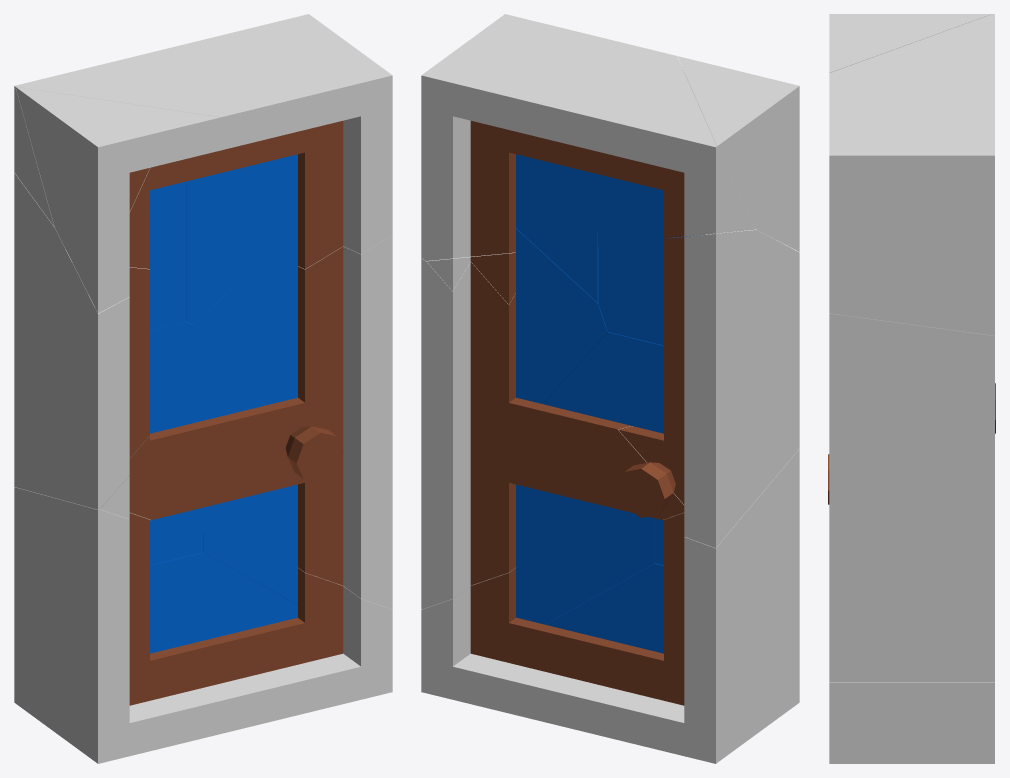
File: Door 4x2x1 Fractured.fbx
3 views of the same model, side by side, from view 1: azimuth 30°, elevation 25°; view 2: azimuth 150°, elevation 25°; view 3: azimuth 270°, elevation 25° (orthographic).
Visible parts, largest first — view 1: Door 4x2x1_cell, Door 4x2x1_cell.001, Door 4x2x1_cell.003, Door 4x2x1_cell.002, Door 4x2x1_cell.004, Glass.001_cell.003, Glass.001_cell, Glass_cell.001, Glass.001_cell.001, Glass_cell, Glass.001_cell.002, Glass_cell.002; view 2: Door 4x2x1_cell, Door 4x2x1_cell.003, Door 4x2x1_cell.001, Door 4x2x1_cell.002, Glass_cell, Door 4x2x1_cell.004, Glass.001_cell.002, Glass.001_cell, Glass.001_cell.003, Glass.001_cell.001, Glass_cell.001, Door 4x2x1.002 (+1 smaller); view 3: Door 4x2x1_cell.001, Door 4x2x1_cell.003, Door 4x2x1_cell, Door 4x2x1_cell.004.
Boxes of the visible parts, x1=… form: Door 4x2x1_cell: x1=14, y1=487, x2=392, y2=763; Door 4x2x1_cell.001: x1=100, y1=235, x2=392, y2=609; Door 4x2x1_cell.003: x1=14, y1=14, x2=392, y2=269; Door 4x2x1_cell.002: x1=14, y1=173, x2=149, y2=509; Door 4x2x1_cell.004: x1=15, y1=87, x2=220, y2=313; Glass.001_cell.003: x1=186, y1=154, x2=297, y2=324; Glass.001_cell: x1=192, y1=228, x2=297, y2=405; Glass_cell.001: x1=150, y1=552, x2=297, y2=653; Glass.001_cell.001: x1=150, y1=321, x2=265, y2=433; Glass_cell: x1=203, y1=484, x2=297, y2=604; Glass.001_cell.002: x1=150, y1=181, x2=185, y2=330; Glass_cell.002: x1=150, y1=507, x2=203, y2=565; Door 4x2x1_cell: x1=421, y1=449, x2=799, y2=763; Door 4x2x1_cell.003: x1=421, y1=14, x2=756, y2=260; Door 4x2x1_cell.001: x1=421, y1=252, x2=684, y2=609; Door 4x2x1_cell.002: x1=618, y1=230, x2=799, y2=548; Glass_cell: x1=516, y1=484, x2=654, y2=624; Door 4x2x1_cell.004: x1=677, y1=56, x2=799, y2=251; Glass.001_cell.002: x1=598, y1=174, x2=704, y2=345; Glass.001_cell: x1=515, y1=228, x2=607, y2=403; Glass.001_cell.003: x1=516, y1=154, x2=598, y2=302; Glass.001_cell.001: x1=543, y1=332, x2=663, y2=433; Glass_cell.001: x1=545, y1=563, x2=663, y2=653; Door 4x2x1.002: x1=617, y1=462, x2=675, y2=517; Door 4x2x1_cell.001: x1=828, y1=313, x2=994, y2=682; Door 4x2x1_cell.003: x1=829, y1=14, x2=994, y2=335; Door 4x2x1_cell: x1=829, y1=682, x2=994, y2=763; Door 4x2x1_cell.004: x1=829, y1=14, x2=991, y2=72.
Size of the model in its own units: 200 by 400 by 100.
